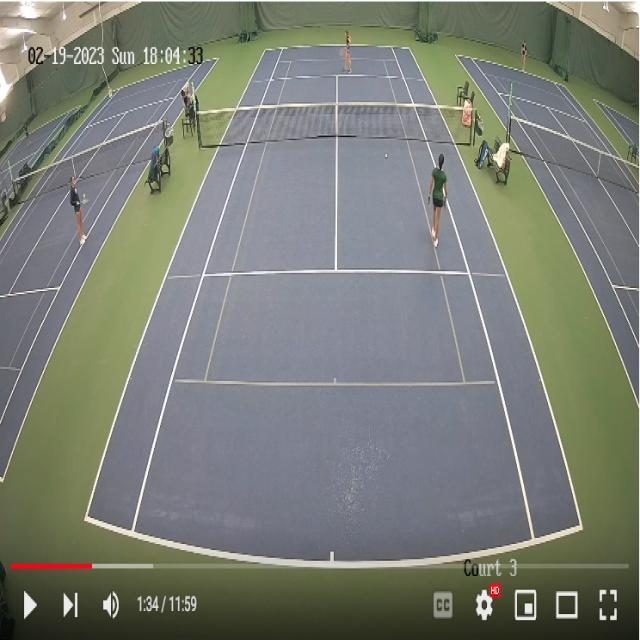ball: (384, 153, 388, 159), (83, 192, 86, 198)
